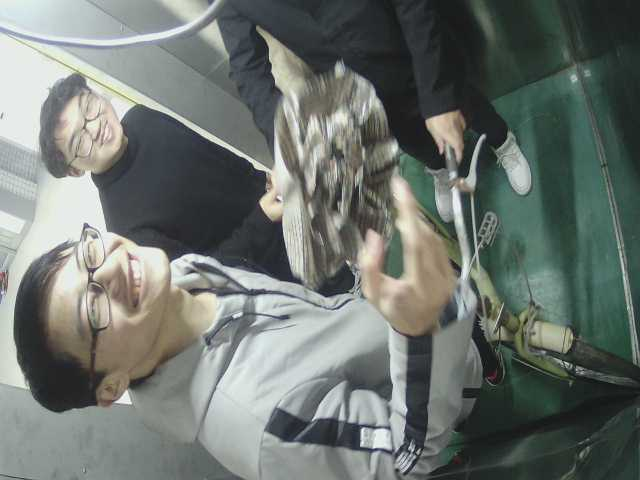bicycle: (367, 140, 636, 407)
person: (21, 237, 504, 469), (32, 77, 354, 299), (219, 1, 536, 209)
